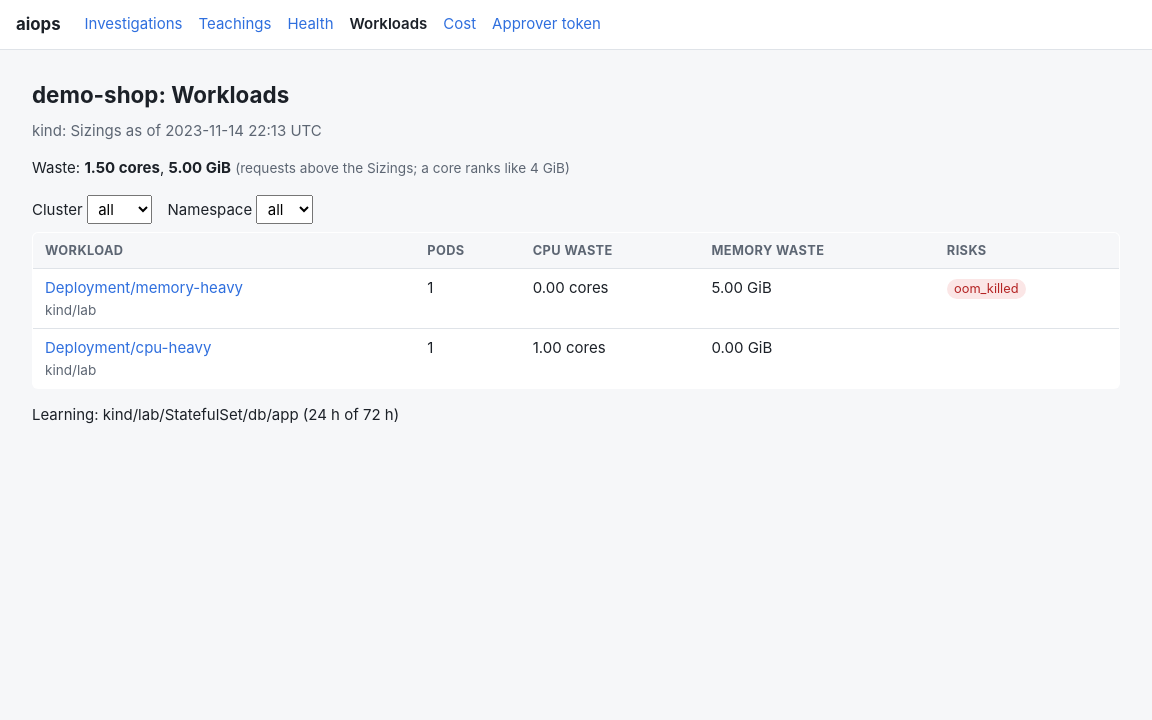
Test: model and Hub text renders as text, never as markup
The width and height of the screenshot is (1152, 720).
Click the button "Deployment/memory-heavy".
click(144, 289)  # box top-left (45, 277), bottom-right (243, 300)
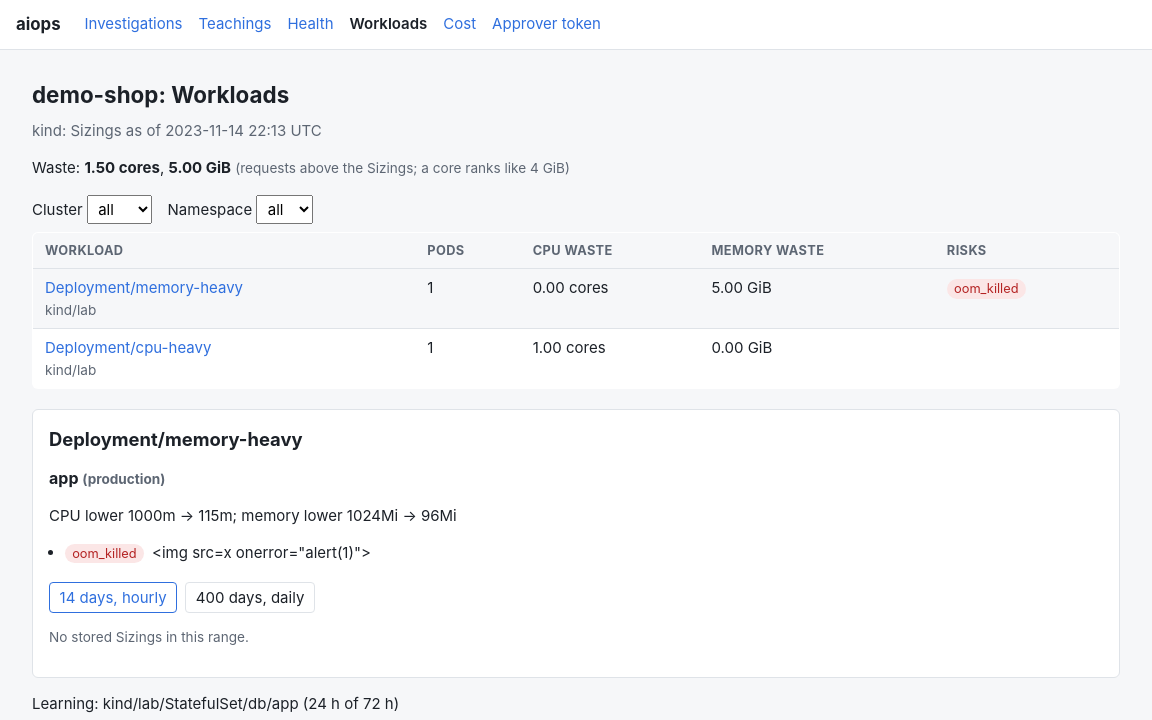
Expected: the list item "oom_killed <img src=x onerror=\"alert(1)\">" is shown, top-left (65, 543), bottom-right (371, 564)
